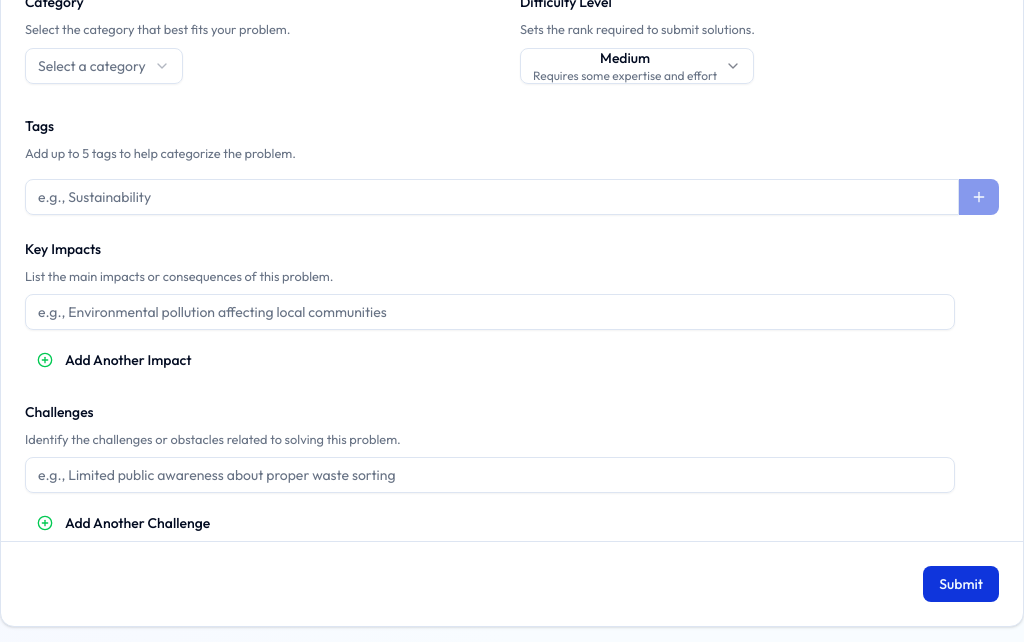
Test: ProblemForm Component › validates empty form submission
The image size is (1024, 642).
(page scrolled)
# Submitting early should show validation errors
What coordinates should you click on to do the following:
click the button "Submit"
I would click on:
 (961, 584)
Its box is [923,566,999,602].
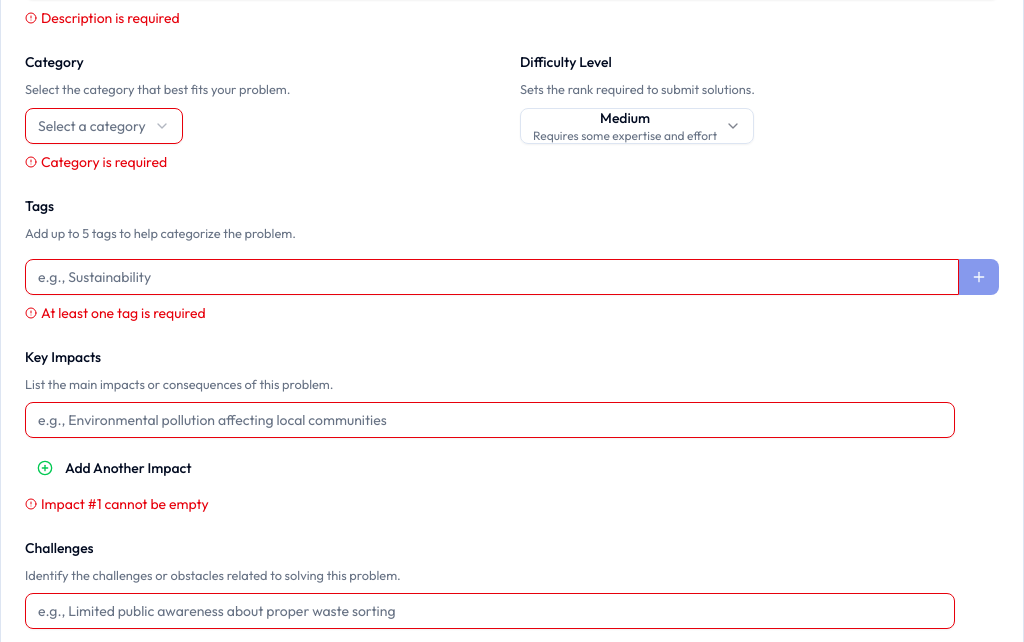
Check: the text "Description is required" is shown, box [25,9,180,27]
Check: the text "Category is required" is shown, box [25,153,167,171]
Check: the text "At least one tag is required" is shown, box [25,304,206,322]
